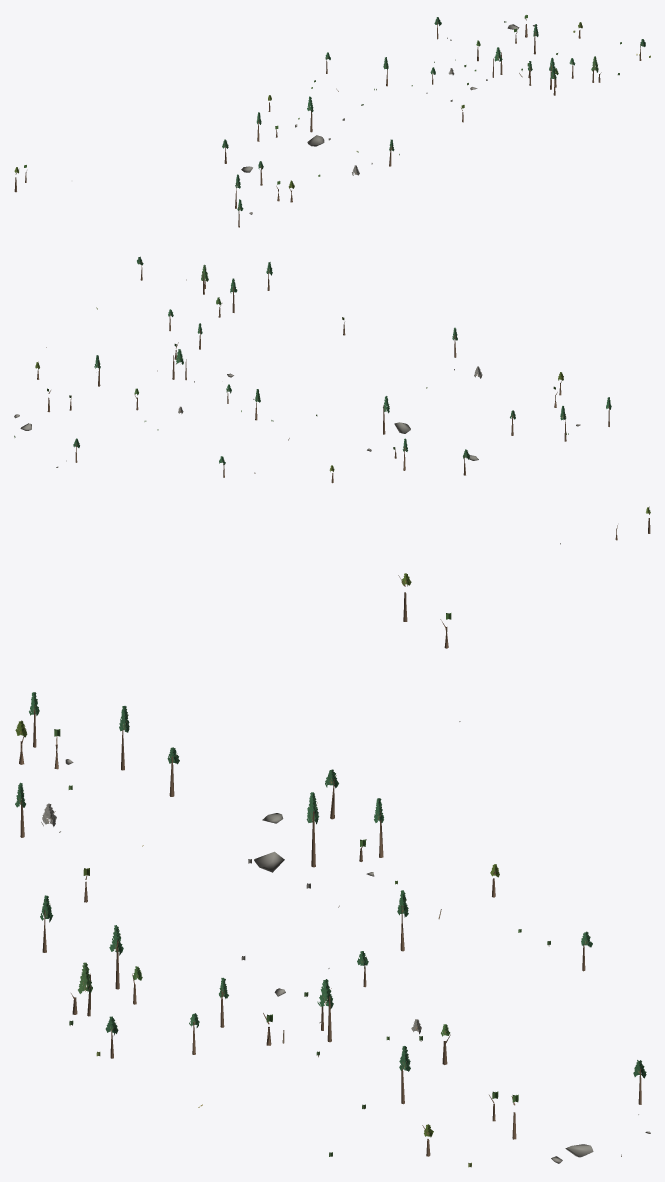
File: arch_land_scatter_c20_18_lod1.glb
3 renders of one model, top to bottom at view 1: azimuth 30°, elevation 25°; view 2: azimuth 150°, elevation 25°; view 3: azimuth 270°, elevation 25°, orthographic. The views are drawn at different scales.
Visible parts, largest first — view 1: arch_land_scatter_c20_18_lod1; view 2: arch_land_scatter_c20_18_lod1; view 3: arch_land_scatter_c20_18_lod1.
Part boxes in pixels (bbox=[...]): arch_land_scatter_c20_18_lod1: bbox=[14, 15, 650, 227]; arch_land_scatter_c20_18_lod1: bbox=[14, 256, 650, 544]; arch_land_scatter_c20_18_lod1: bbox=[15, 573, 650, 1167].
Size of the model in its own units: 221 by 35.15 by 103.
